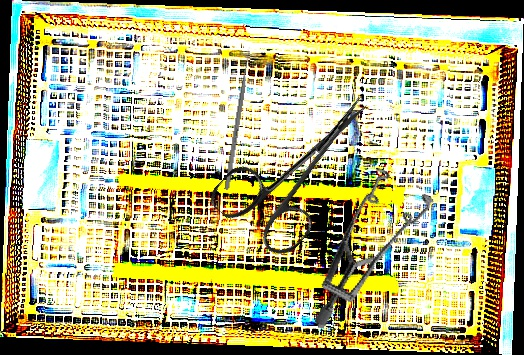Iris Scissors: (205, 66, 399, 266)
Pusher: (224, 46, 252, 191)
Speculum: (267, 152, 463, 330)
